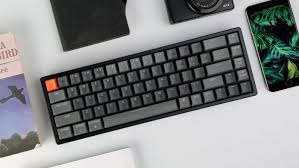keyboard: (36, 49, 260, 143)
